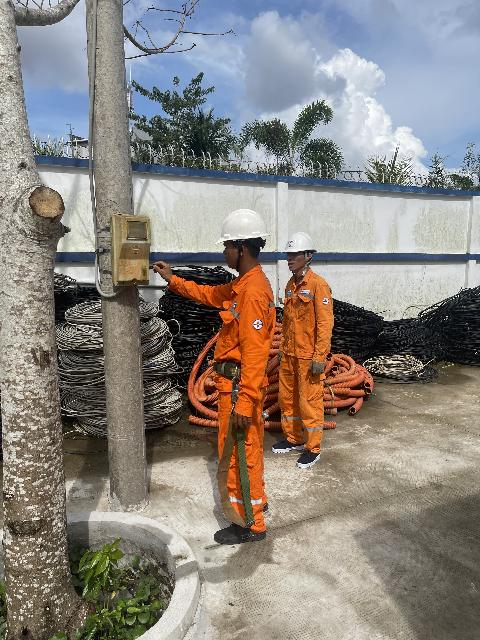gloves: (303, 356, 328, 380), (269, 349, 285, 368)
harness: (201, 355, 266, 390)
helmet: (214, 207, 272, 248), (271, 221, 323, 261)
shoes: (211, 514, 268, 546), (267, 429, 304, 456), (296, 441, 321, 470)
